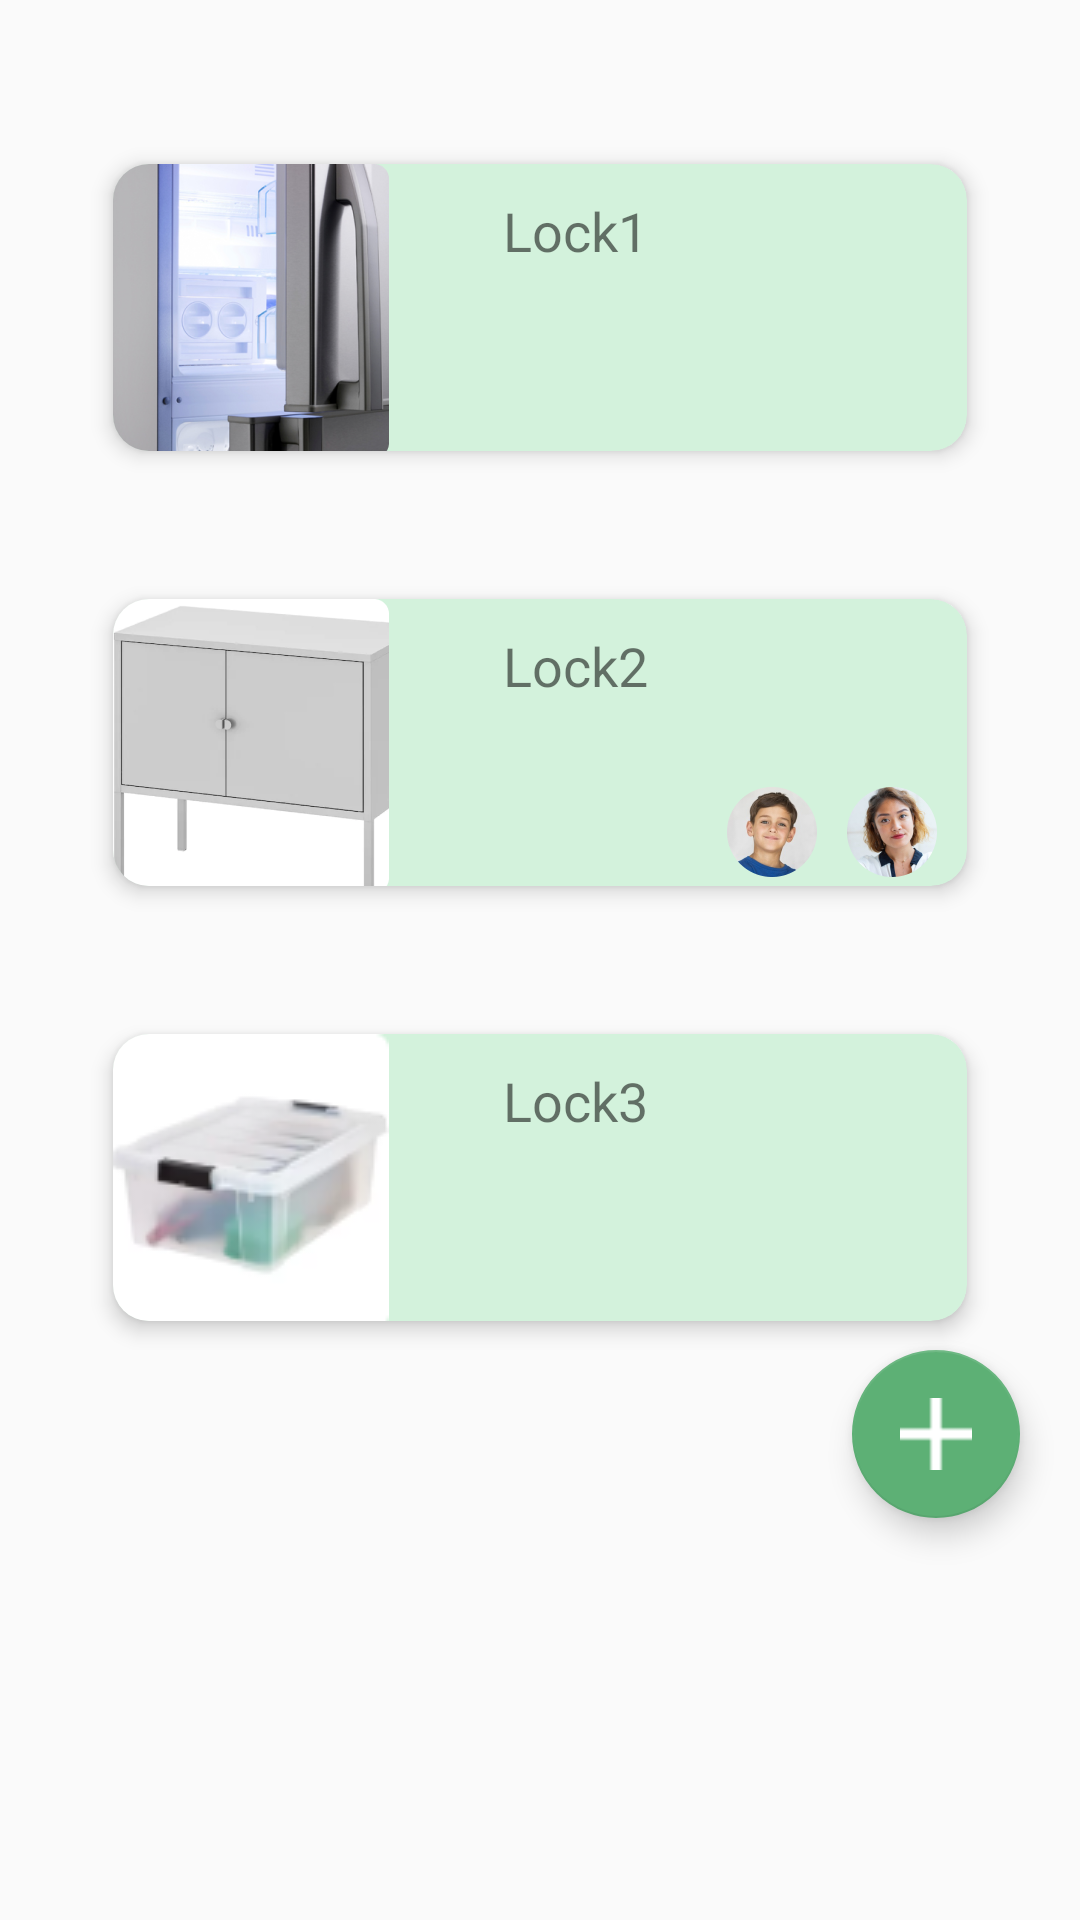

Where icons sit on this 1080×1920 app screen, as [x1=x1, y1=y1, x2=x2, y2=y2]:
addlock: [x1=852, y1=1350, x2=1020, y2=1518]
people: [x1=847, y1=787, x2=936, y2=877], [x1=738, y1=792, x2=805, y2=877]
